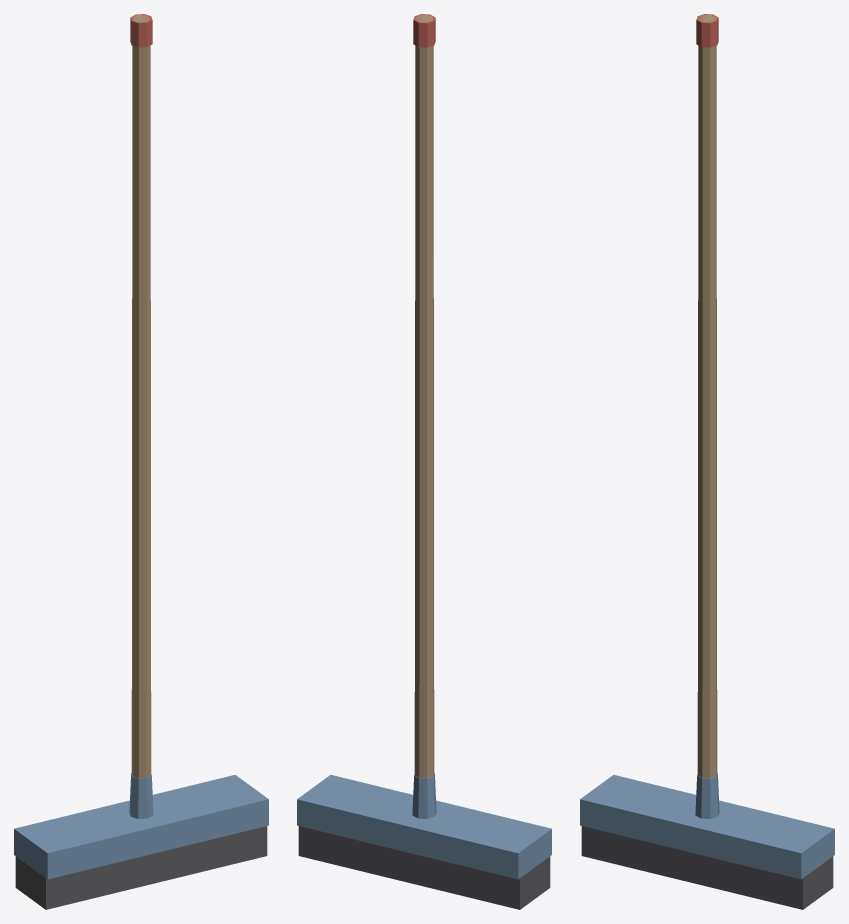
Rendered from broom.glb.
The picture shows the model from 3 angles, left to right: view 1: azimuth 30°, elevation 25°; view 2: azimuth 150°, elevation 25°; view 3: azimuth 330°, elevation 25°; orthographic projection.
Parts seen in each view (by area): view 1: NC_broom; view 2: NC_broom; view 3: NC_broom.
Boxes of the visible parts, box(x1,y1,x2,y2) form: NC_broom: box(14, 14, 268, 909); NC_broom: box(297, 14, 551, 909); NC_broom: box(580, 14, 834, 909).
Bounding box in the file's own units: 0.38 × 1.4 × 0.1.
